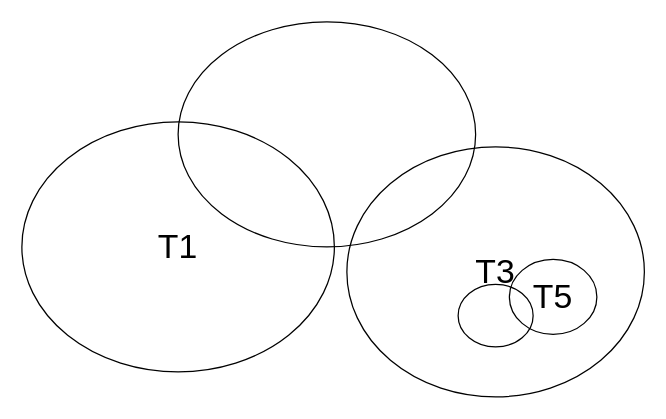
The diagram is 666 pixels wide and 419 high, and some of its shapes have lost their labels. The centre of each missing label's shape, as x and y in pixels:
"T2" goes at point 326,134.
"T4" goes at point 495,315.
